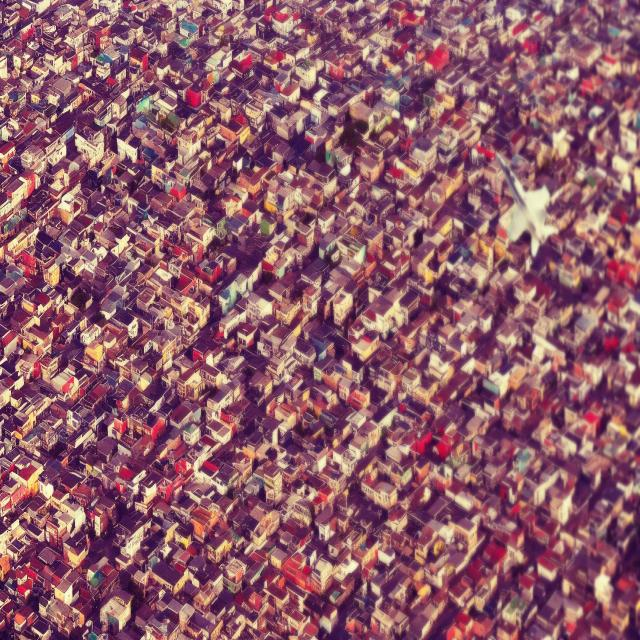airplane: (494, 150, 558, 258)
